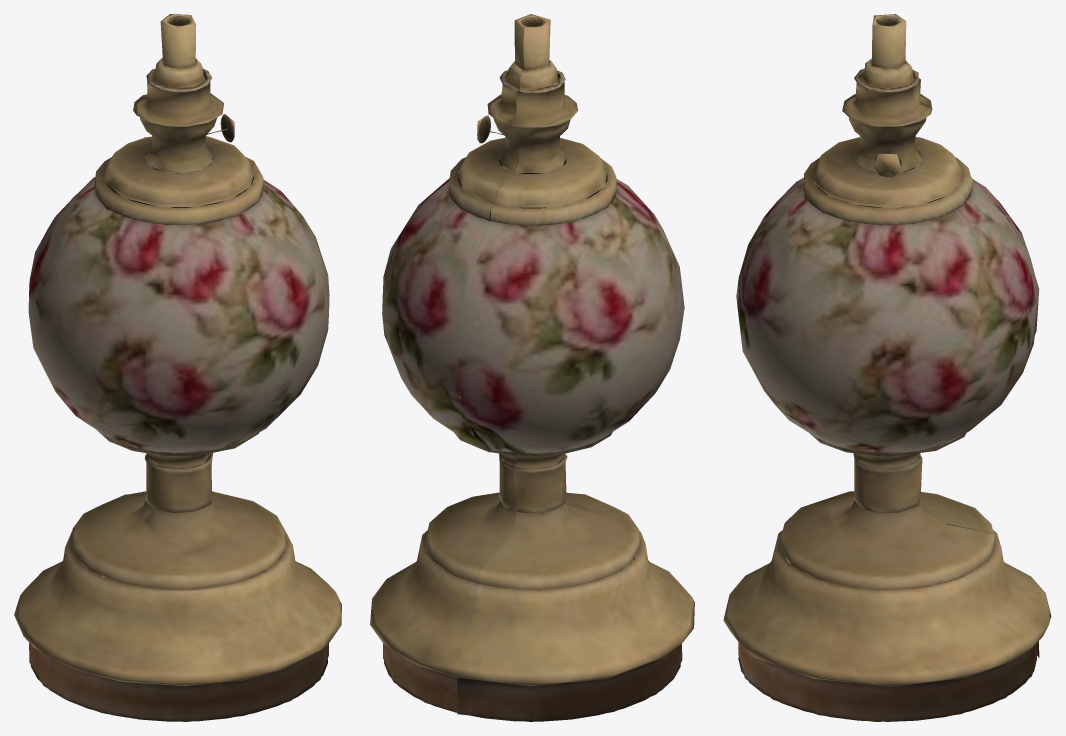
File: oil_lamp.glb
The picture shows the model from 3 angles, left to right: view 1: azimuth 30°, elevation 25°; view 2: azimuth 150°, elevation 25°; view 3: azimuth 270°, elevation 25°; orthographic projection.
Visible parts, largest first — view 1: vintage_oil_lamp_glass; view 2: vintage_oil_lamp_glass; view 3: vintage_oil_lamp_glass.
Boxes of the visible parts, <box> form: vintage_oil_lamp_glass: <box>14,14,341,721</box>; vintage_oil_lamp_glass: <box>370,14,694,721</box>; vintage_oil_lamp_glass: <box>723,14,1051,721</box>.
Size of the model in its own units: 0.1319 by 0.2827 by 0.1318.
1 material, 1 textured.
